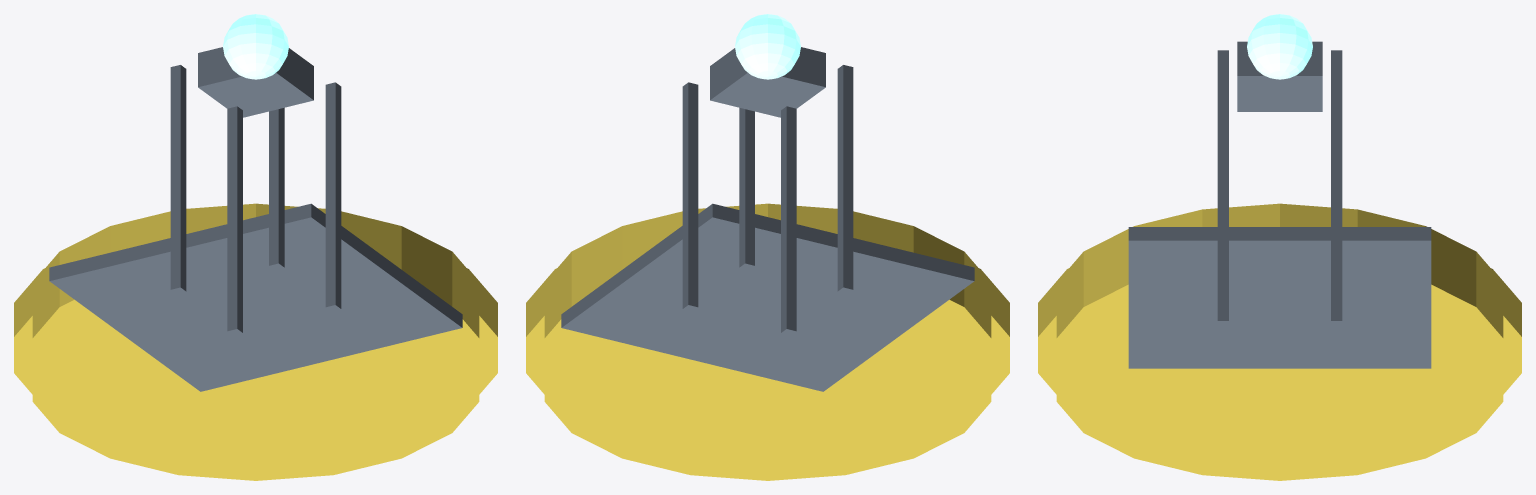
The model's file is deepRecoveryBuoyBeacon.446c27b5.glb.
3 renders of one model, left to right at view 1: azimuth 30°, elevation 25°; view 2: azimuth 150°, elevation 25°; view 3: azimuth 270°, elevation 25°, orthographic.
Visible parts, largest first — view 1: buoyHull, buoyMast, buoyLight; view 2: buoyHull, buoyMast, buoyLight; view 3: buoyHull, buoyMast, buoyLight.
Part boxes in pixels (left/top/right/bottom): buoyHull: left=14, top=203, right=497, bottom=480; buoyMast: left=49, top=47, right=462, bottom=391; buoyLight: left=223, top=14, right=288, bottom=79; buoyHull: left=526, top=203, right=1009, bottom=480; buoyMast: left=561, top=47, right=974, bottom=391; buoyLight: left=735, top=14, right=800, bottom=79; buoyHull: left=1038, top=203, right=1521, bottom=480; buoyMast: left=1128, top=41, right=1431, bottom=368; buoyLight: left=1247, top=14, right=1312, bottom=79.
Size of the model in its own units: 5.2 by 4.3 by 5.12.
